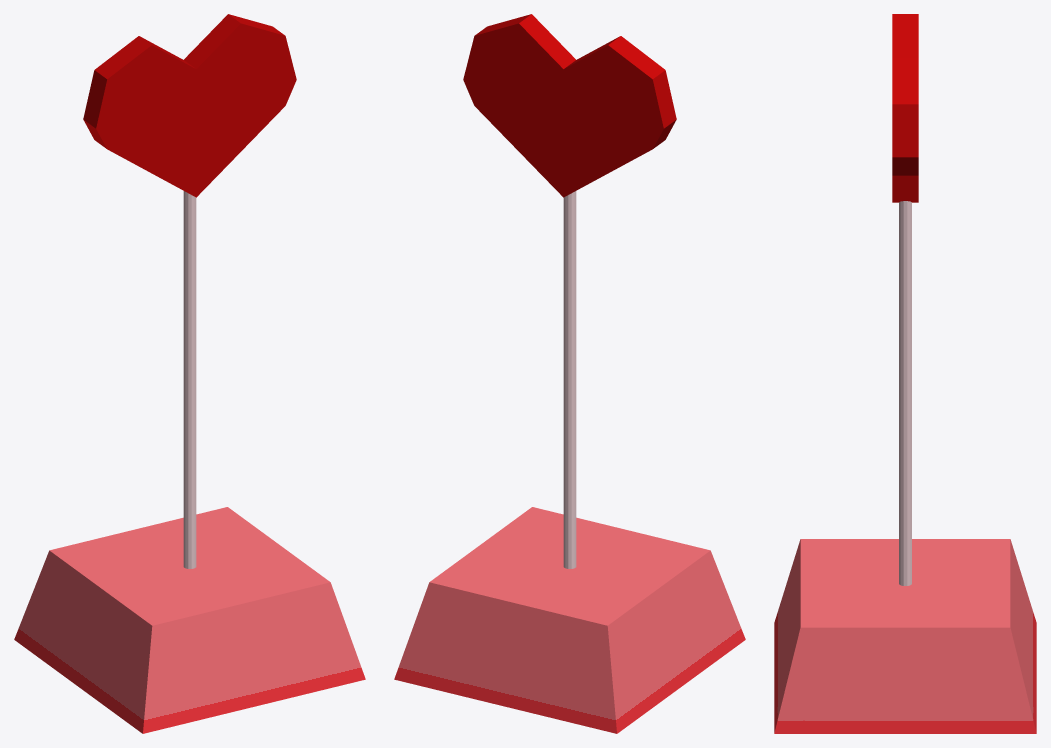
The model's file is Lever.gltf.
3 renders of one model, left to right at view 1: azimuth 30°, elevation 25°; view 2: azimuth 150°, elevation 25°; view 3: azimuth 270°, elevation 25°, orthographic.
Parts seen in each view (by area): view 1: mesh, group, cylinder; view 2: mesh, group, cylinder; view 3: mesh, group, cylinder.
Boxes of the visible parts, x1,y1,x2,y2 form: mesh: [14, 507, 365, 733]; group: [83, 14, 296, 197]; cylinder: [183, 191, 196, 568]; mesh: [394, 507, 745, 733]; group: [463, 14, 676, 197]; cylinder: [563, 191, 576, 568]; mesh: [774, 539, 1036, 733]; group: [892, 14, 918, 202]; cylinder: [899, 201, 911, 585].
Size of the model in its own units: 1.25 by 3.38 by 1.25.
3 materials, 3 textured.
